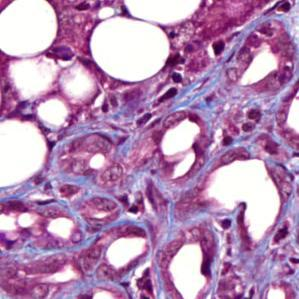steatosis: (88, 21, 172, 78)
